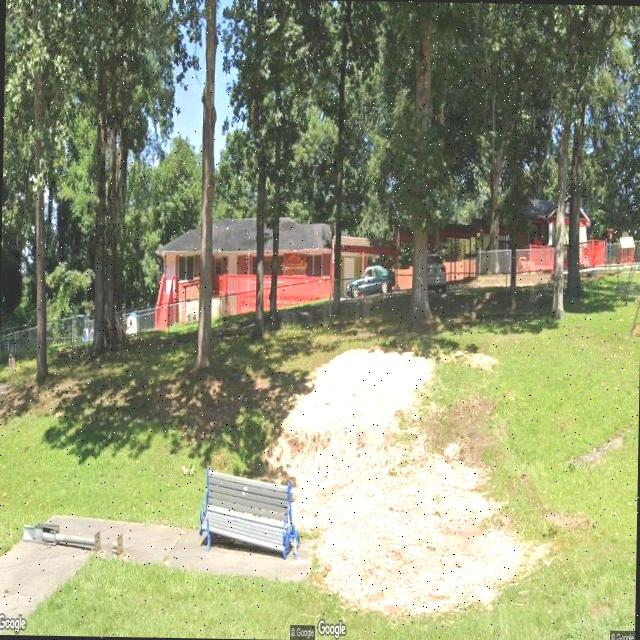seating: (197, 467, 302, 561)
